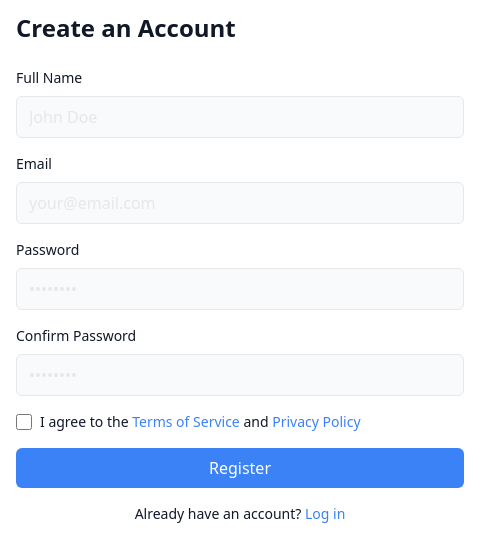
Test: RegisterForm › shows loading state during registration
Note: Fill out the form
Type "Test User" into the field labelled "Full Name" at point(240, 117), box [16,96,464,138]
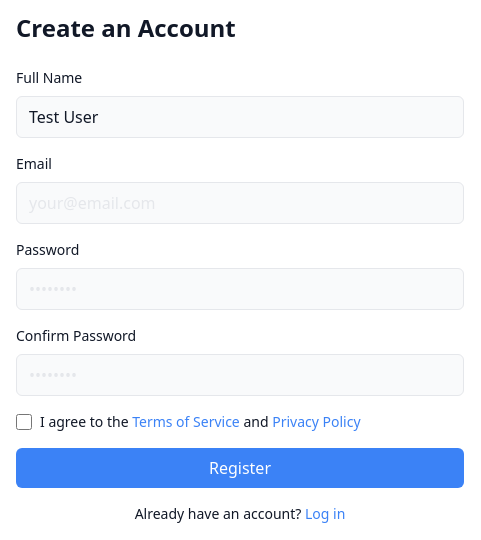
Type "test@example.com" into the field labelled "Email" at point(240, 203), box [16,182,464,224]
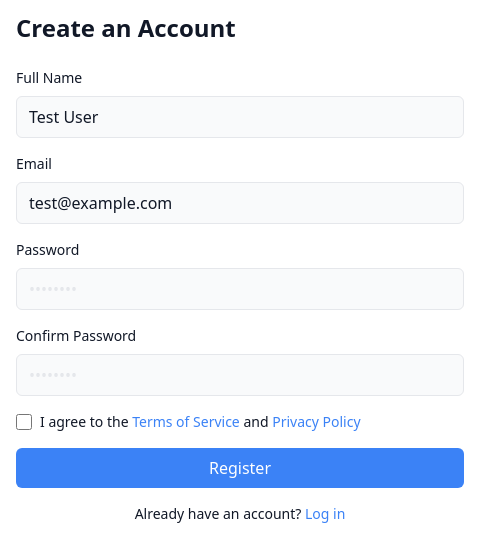
Type "Password123!" into the password field labelled "Password" at point(240, 289), box [16,268,464,310]
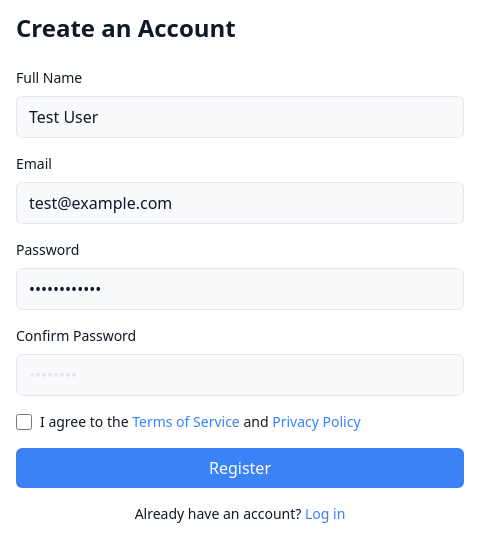
Type "Password123!" into the password field labelled "Confirm Password" at point(240, 375), box [16,354,464,396]
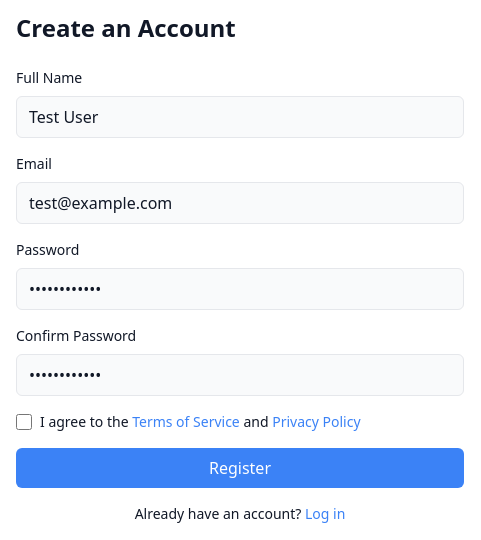
Click the checkbox labelled "I agree to the Terms of Service and Privacy Policy" at point(24, 422), box [16,414,32,430]
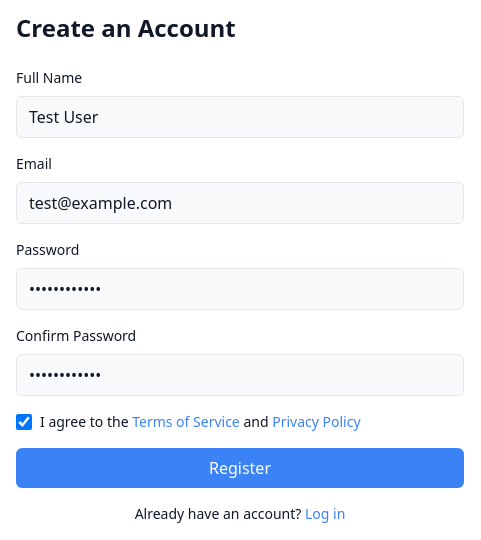
Note: Submit the form
Click the button "Register" at point(240, 468), box [16,448,464,488]
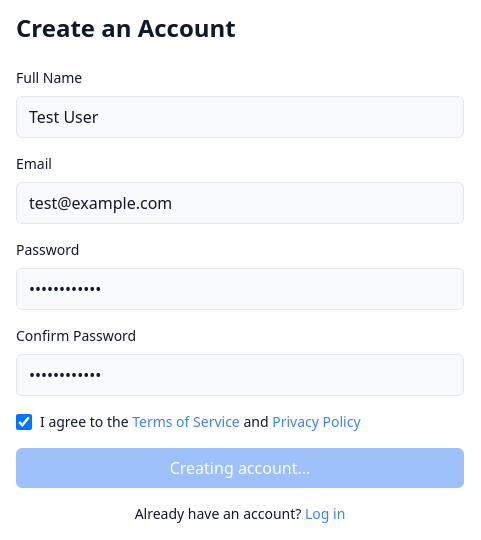
Expected: the button "Creating account..." is shown, [16,448,464,488]
